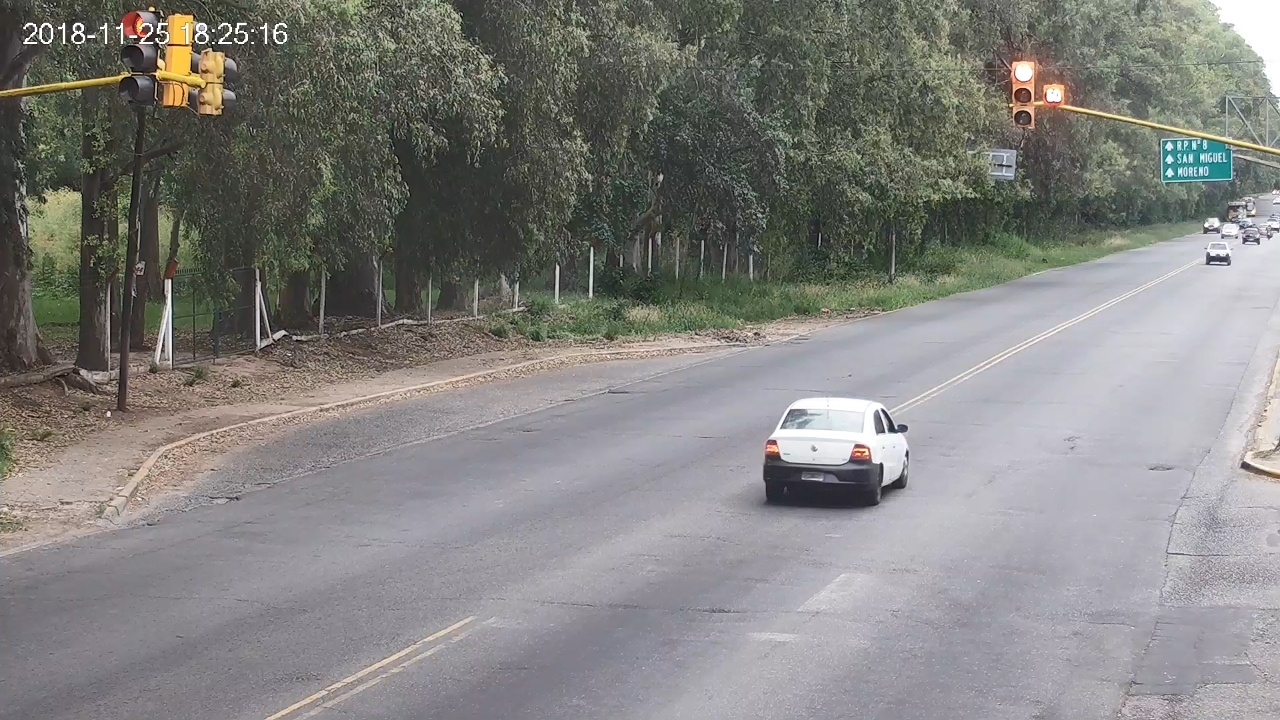car: (763, 398, 910, 504)
traffic light: (1012, 61, 1035, 128)
